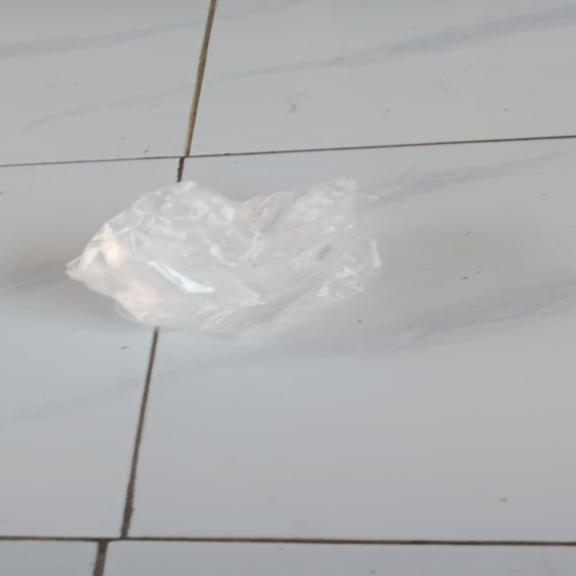Plastik: (64, 175, 392, 335)
